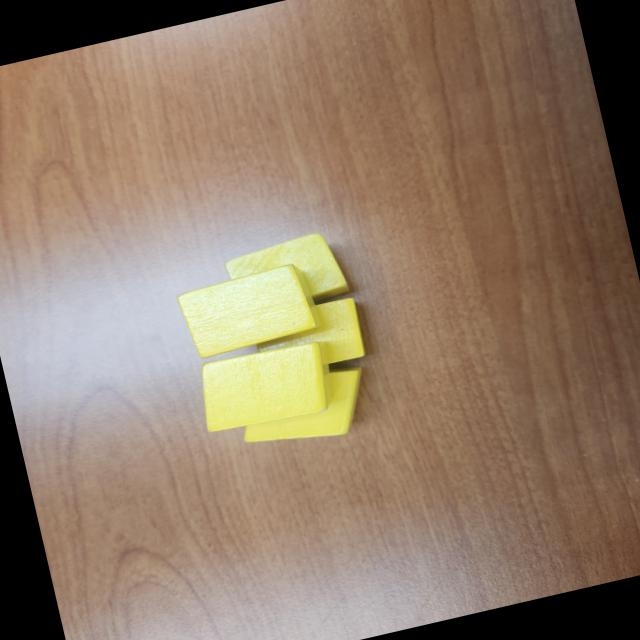yellow: (190, 332, 346, 438), (172, 259, 326, 363), (228, 362, 380, 458), (218, 227, 354, 319), (248, 294, 368, 380)
